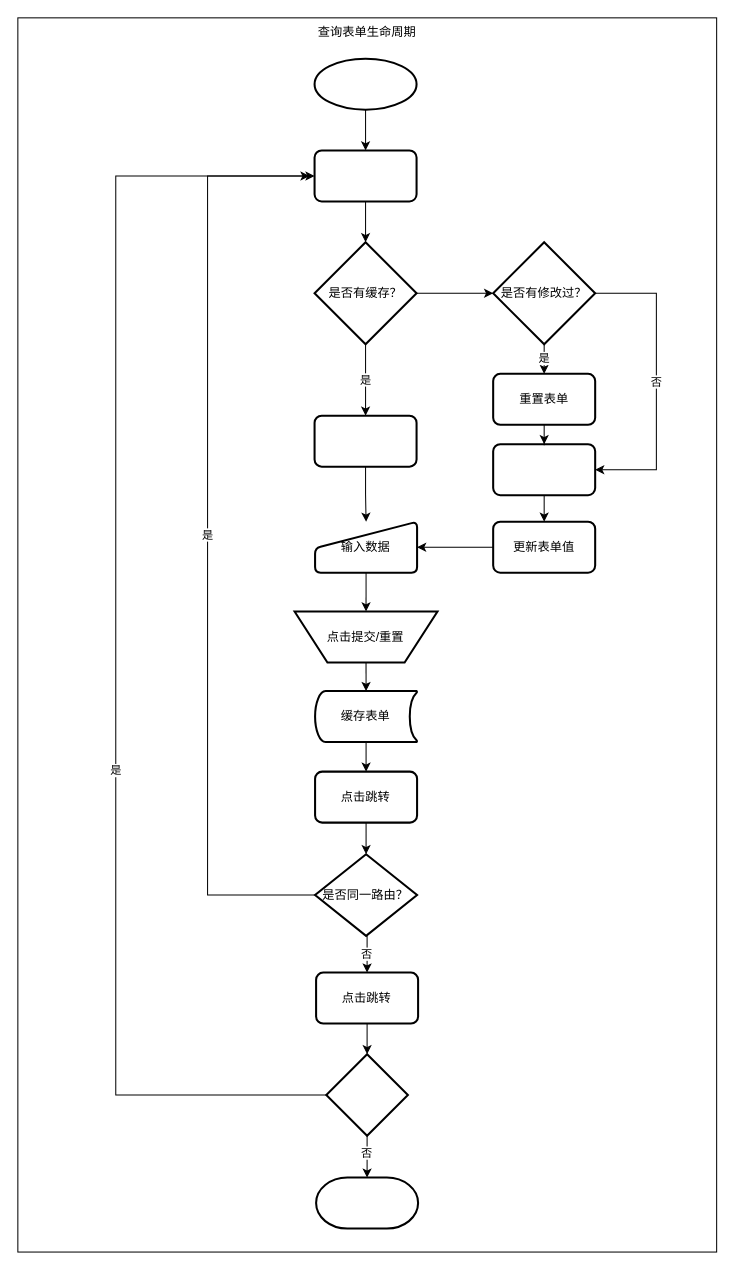
The diagram is 735 pixels wide and 1270 high, and some of its shapes have lost their labels. Here are the shapes that lost their labels. From the top down, the box of each, then its label:
(313, 57, 417, 110): 访问
(313, 149, 417, 202): 初始化表单
(313, 414, 417, 467): 读取缓存更新表单
(492, 443, 596, 496): 路由参数解析
(325, 1053, 408, 1136): 是否返回
(315, 1176, 419, 1229): 结束
